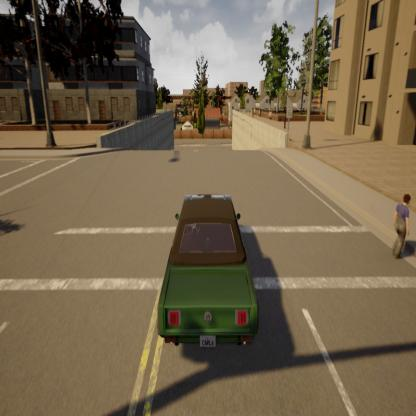Cars: (148, 182, 265, 364)
Pedestrian: (385, 182, 414, 269)
